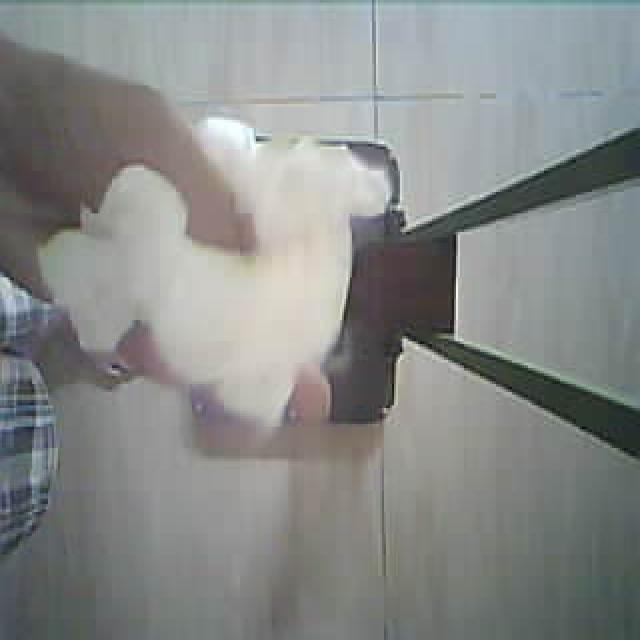Paper: (15, 69, 415, 475)
